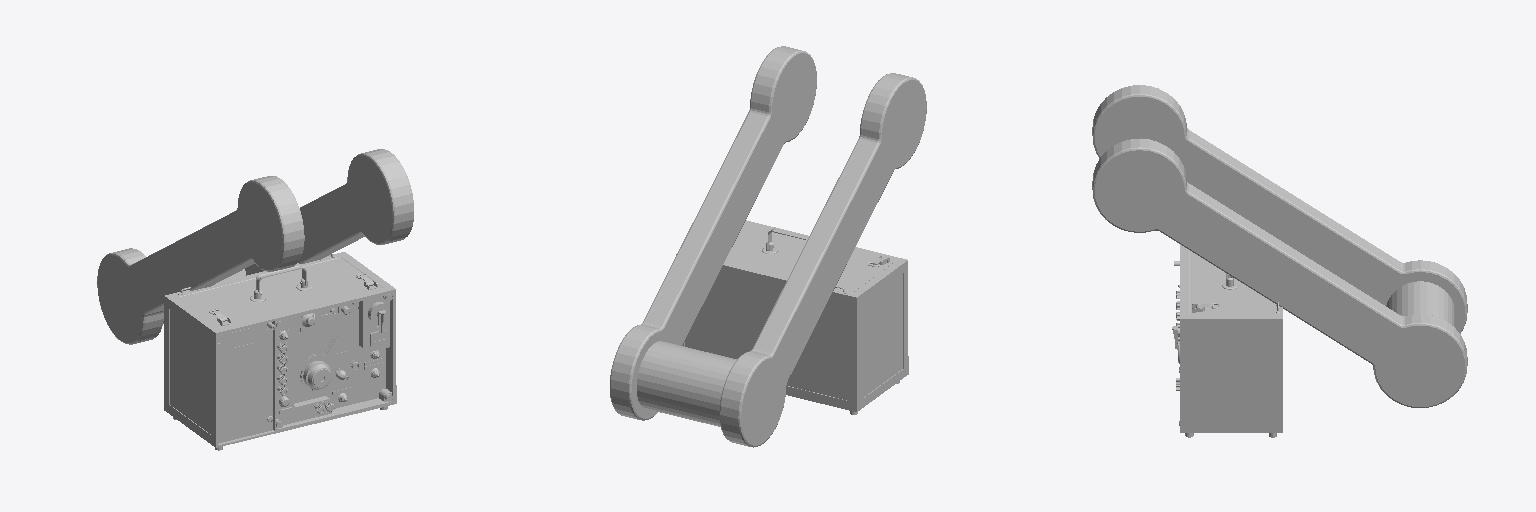
File: neck_1.obj
3 renders of one model, left to right at view 1: azimuth 30°, elevation 25°; view 2: azimuth 150°, elevation 25°; view 3: azimuth 270°, elevation 25°, orthographic.
Parts seen in each view (by area): view 1: radio, Hand_a_low.007; view 2: Hand_a_low.007, radio; view 3: Hand_a_low.007, radio.
Part boxes in pixels (x1,y1,x2,y2): radio: (164,252,396,450); Hand_a_low.007: (97,149,413,344); Hand_a_low.007: (610,46,926,447); radio: (676,220,908,414); Hand_a_low.007: (1092,85,1467,407); radio: (1172,245,1282,437).
Bounding box in the file's own units: 0.7819 × 1.16 × 1.41.